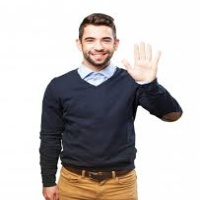ring: (146, 43, 154, 65)
